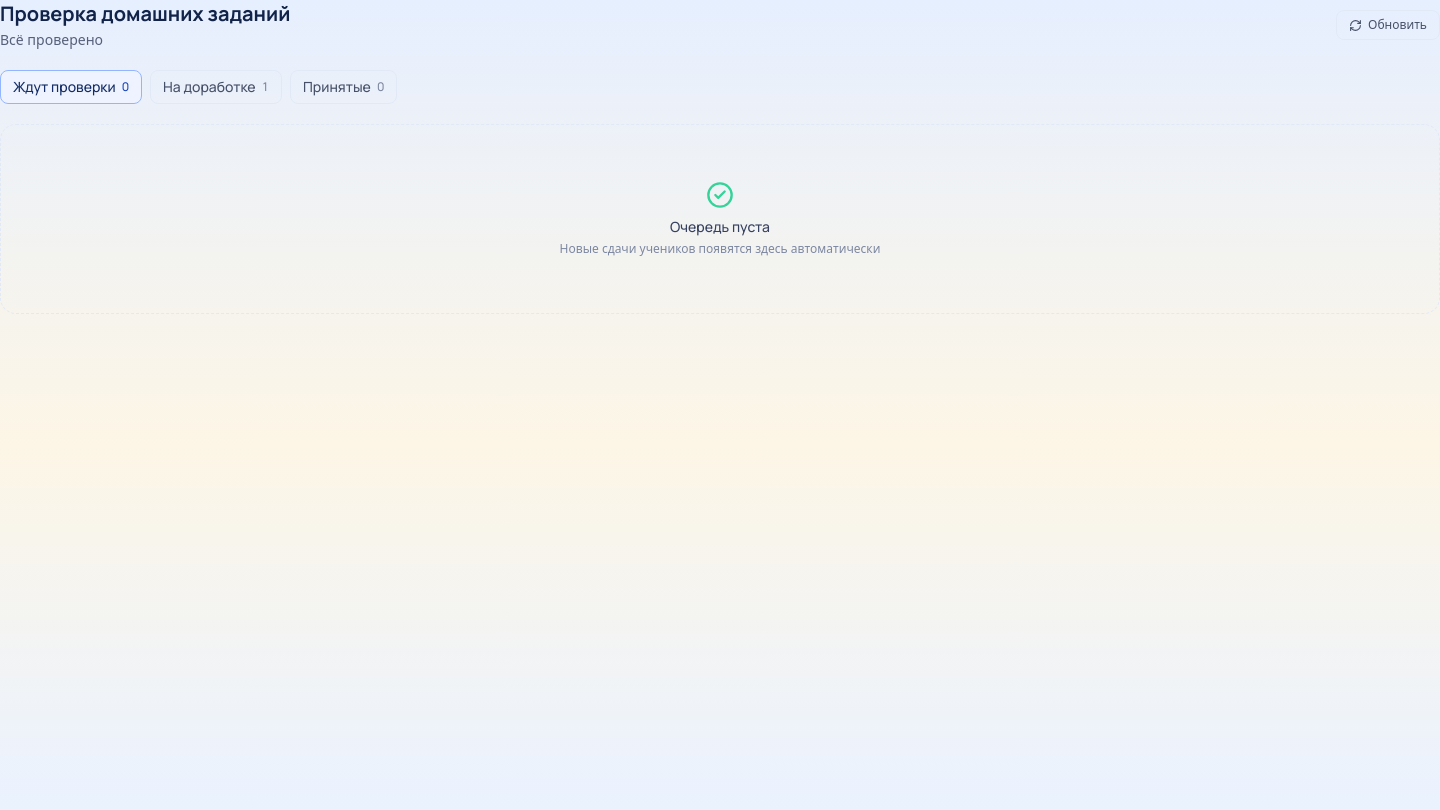
Test: HomeworkReviewQueuePage — принять работу с доработки › ученик уже начал новую попытку — блок вердикта выключен с причиной
Step 1. Click the tab with test id "queue-tab-returned_for_revision" → (216, 87), box 150,70 -> 282,104
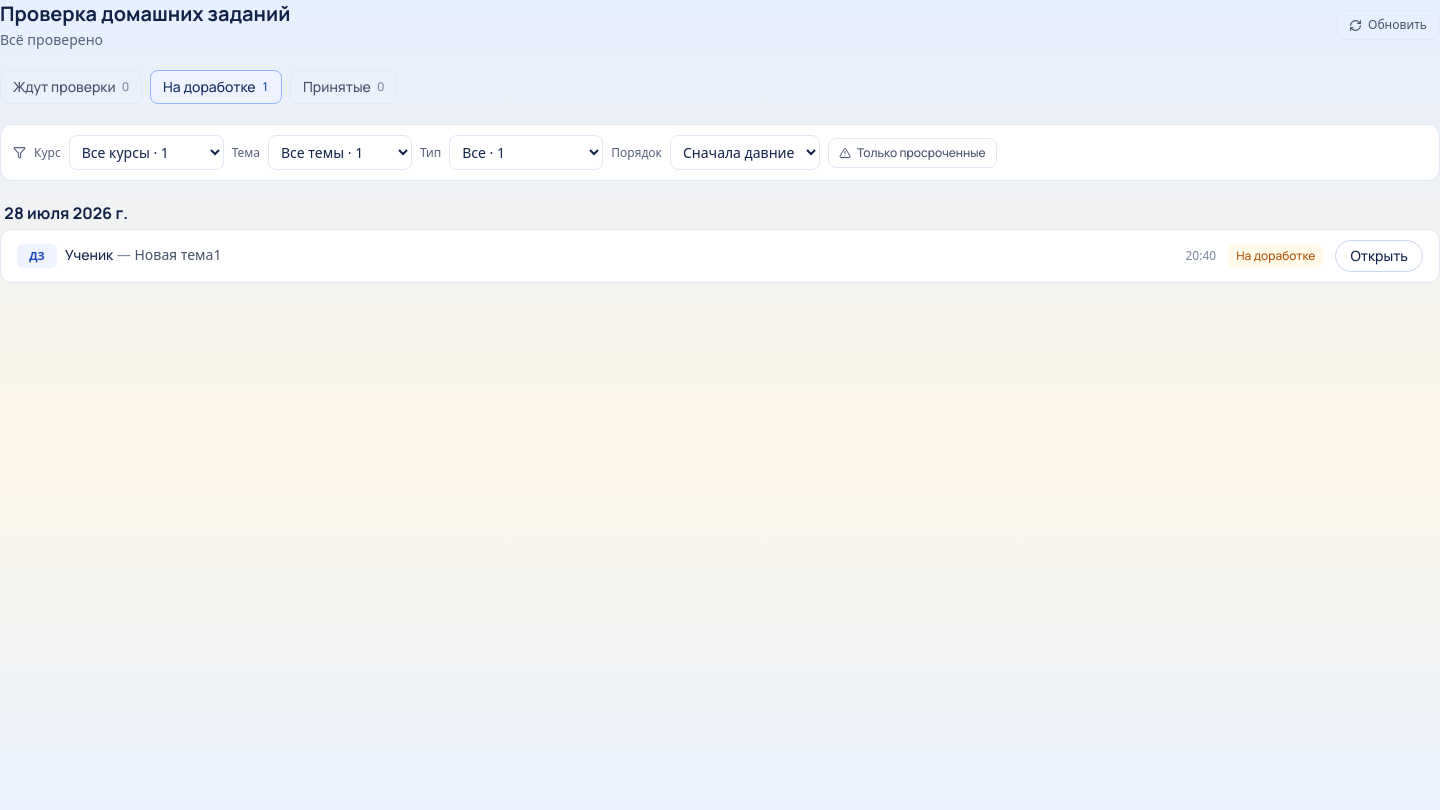
Step 2. Click the button "Открыть" → (1379, 256), box 1335,240 -> 1423,272
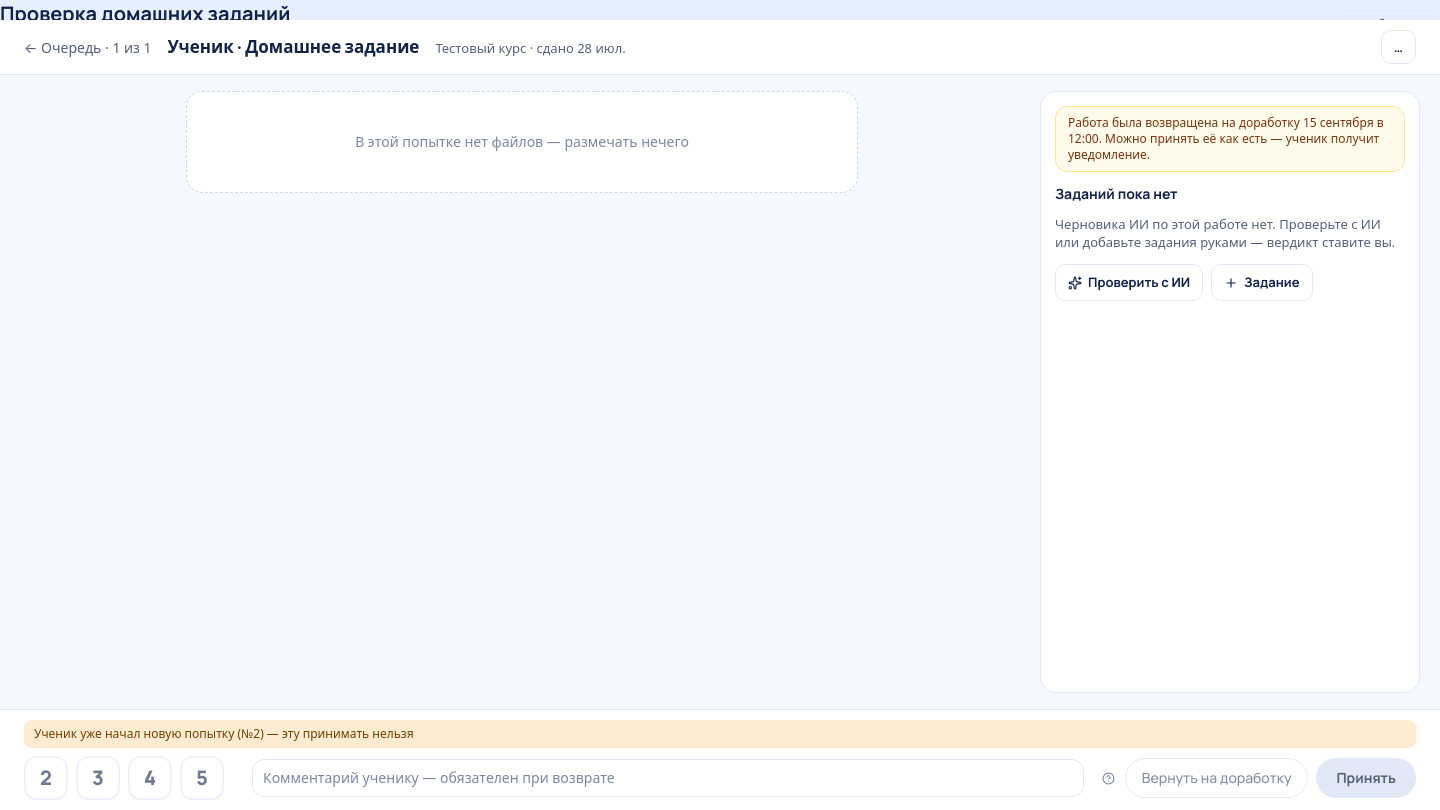
Result: the text with test id "review-blocked-reason" shows "новую попытку" at 34,725 -> 414,742
Result: the button with test id "review-accept-button" is disabled at 1316,758 -> 1416,798
Result: the button with test id "review-return-button" is disabled at 1125,758 -> 1308,798
